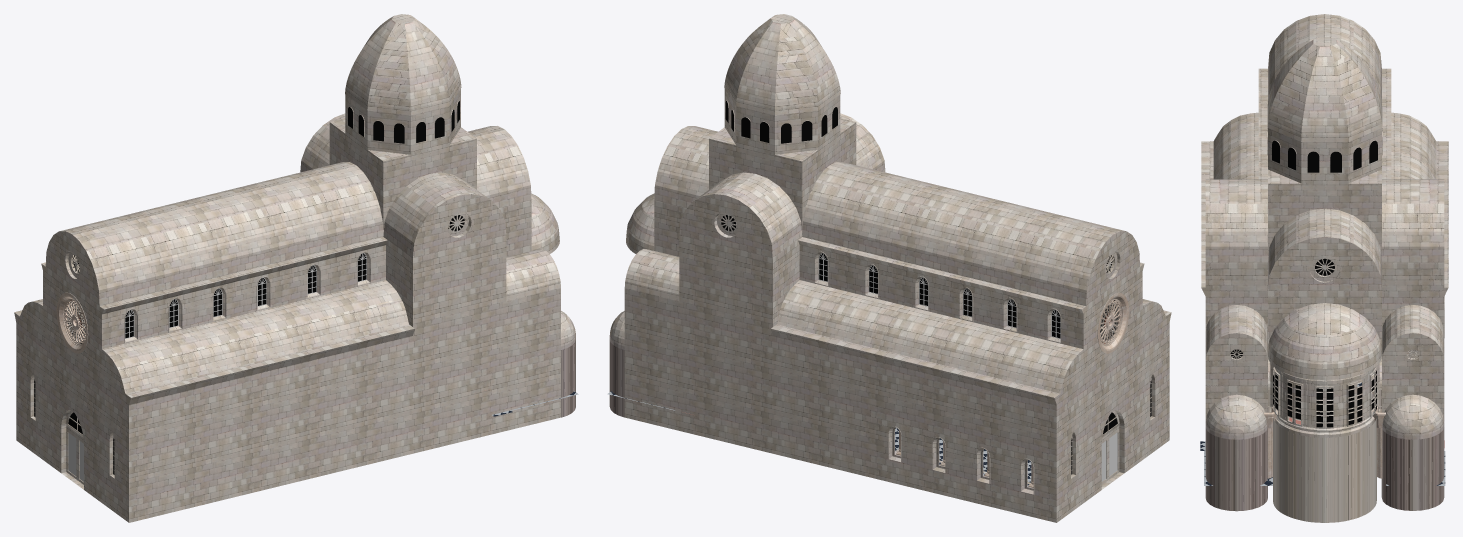
Rendered from SibenicDividedApplied_e.fbx.
3 renders of one model, left to right at view 1: azimuth 30°, elevation 25°; view 2: azimuth 150°, elevation 25°; view 3: azimuth 270°, elevation 25°, orthographic. The views are drawn at different scales.
Visible parts, largest first — view 1: Object__0.011, Object__0.012, Object__0.018, Object__0; view 2: Object__0.011, Object__0.012, Object__0.018, Object__0; view 3: Object__0.011, Object__0.012, Object__0.018, Object__0.014, Object__0.017.
Part boxes in pixels (x1,y1,x2,y2): Object__0.011: (14,14,575,522); Object__0.012: (34,16,461,437); Object__0.018: (34,101,464,474); Object__0: (68,253,366,481); Object__0.011: (609,14,1171,522); Object__0.012: (724,16,1151,488); Object__0.018: (721,101,1151,474); Object__0: (818,253,1117,484); Object__0.011: (1201,14,1448,522); Object__0.012: (1230,40,1419,437); Object__0.018: (1230,140,1377,427); Object__0.014: (1263,351,1408,478); Object__0.017: (1200,382,1445,485).
Size of the model in its own units: 4028 by 3079 by 1705.
